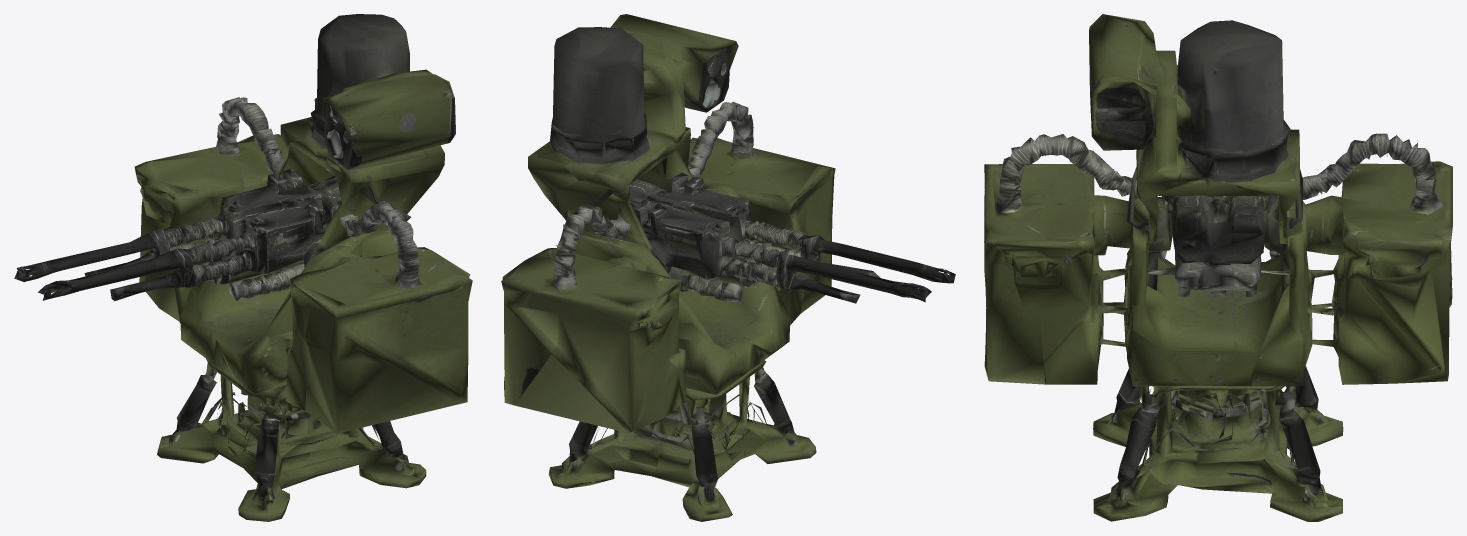
The model's file is rws.glb.
3 views of the same model, side by side, from view 1: azimuth 30°, elevation 25°; view 2: azimuth 150°, elevation 25°; view 3: azimuth 270°, elevation 25° (orthographic). The views are drawn at different scales.
Visible parts, largest first — view 1: rws; view 2: rws; view 3: rws.
Part boxes in pixels (x1=…): rws: x1=14, y1=14, x2=472, y2=521; rws: x1=501, y1=14, x2=955, y2=521; rws: x1=984, y1=14, x2=1452, y2=521.
Bounding box in the file's own units: 1.85 × 1.9 × 1.7.
1 material, 1 textured.
